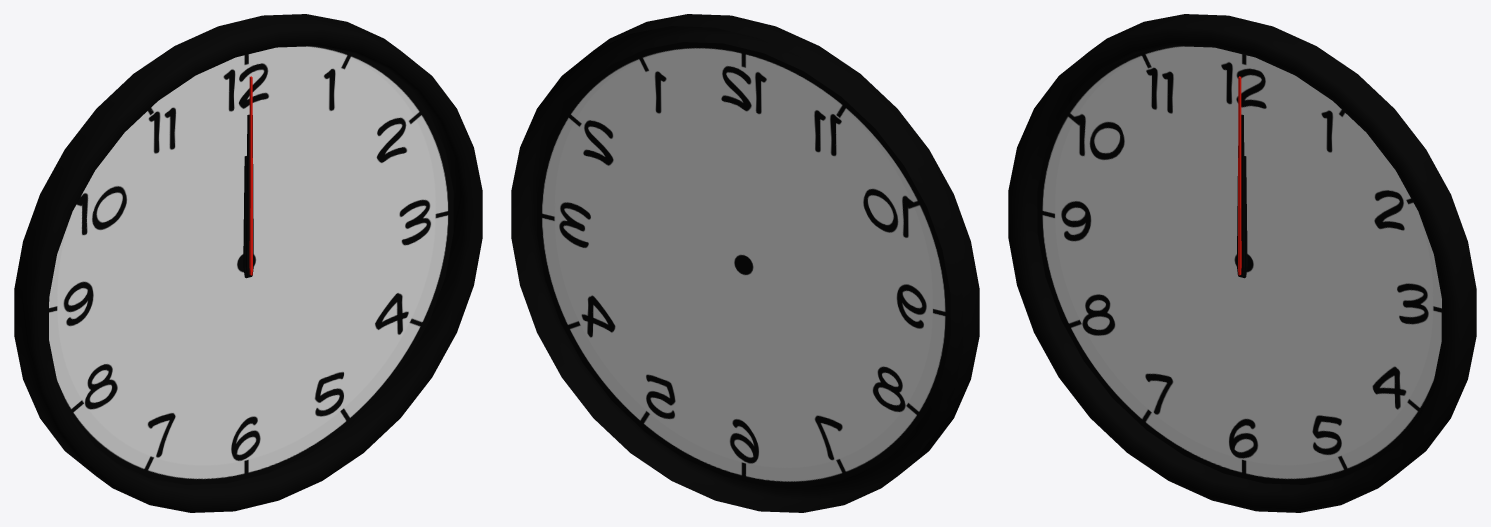
The model's file is zegar.fbx.
3 renders of one model, left to right at view 1: azimuth 30°, elevation 25°; view 2: azimuth 150°, elevation 25°; view 3: azimuth 330°, elevation 25°, orthographic.
Parts seen in each view (by area): view 1: Clock, Sec, Min; view 2: Clock; view 3: Clock, Sec, Min.
Part boxes in pixels (box(x1,y1,x2,y2)): Clock: box(14, 14, 482, 512); Sec: box(249, 76, 252, 275); Min: box(245, 114, 253, 276); Clock: box(511, 14, 979, 512); Clock: box(1008, 14, 1476, 512); Sec: box(1238, 76, 1241, 275); Min: box(1237, 114, 1244, 276).
Bounding box in the file's own units: 50.05 × 50.05 × 3.59.
1 material, 1 textured.
